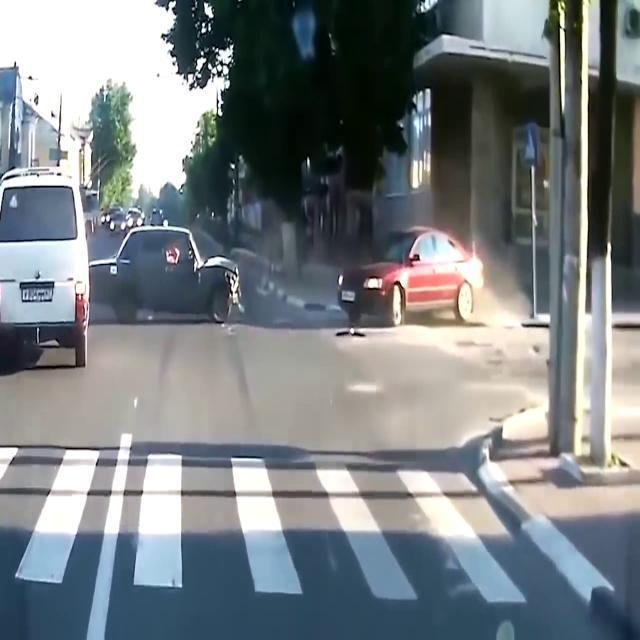accident: (90, 224, 488, 336)
non-accident: (1, 165, 246, 371), (100, 205, 168, 238)
